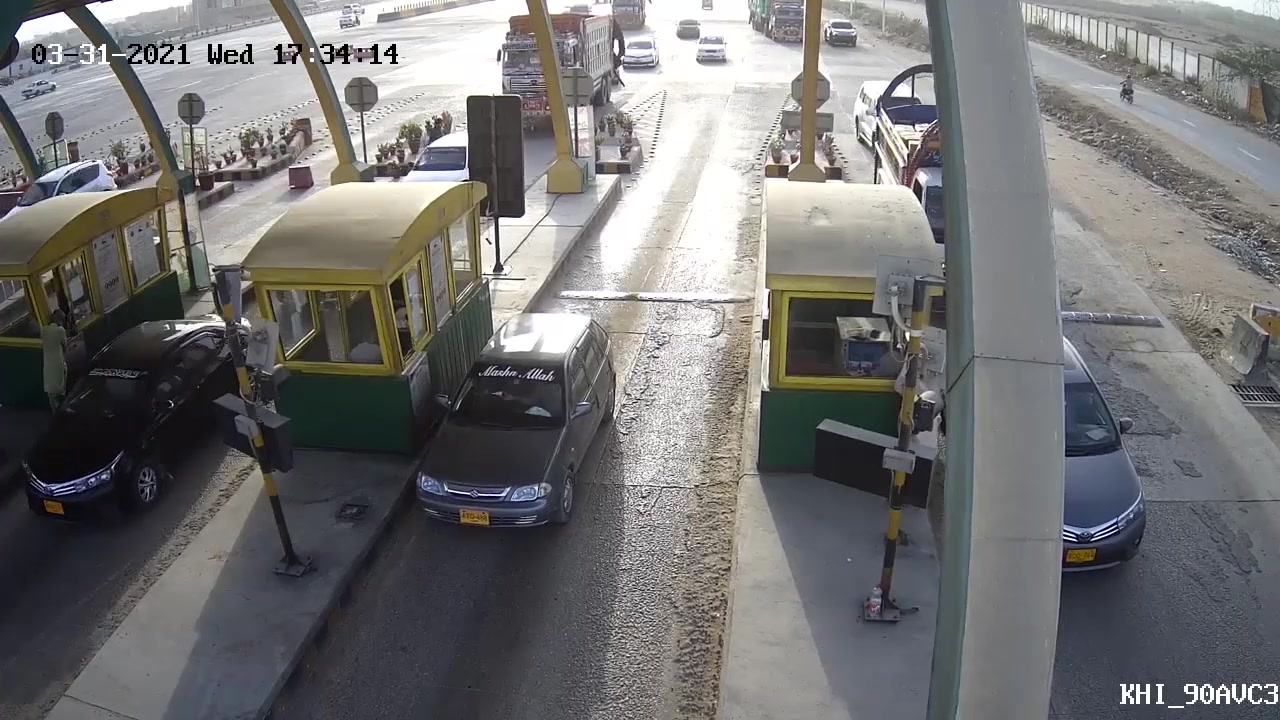F1: (416, 311, 621, 542)
